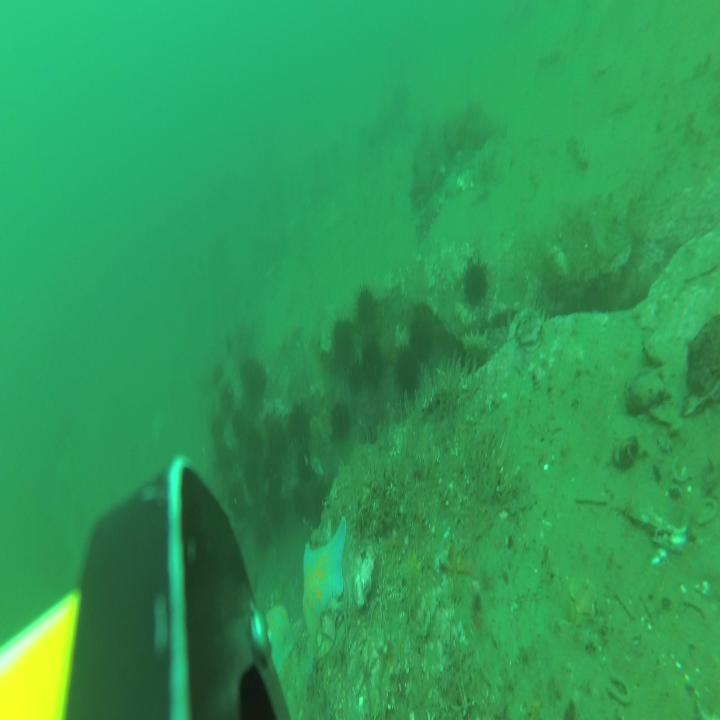echinus: (460, 259, 493, 314), (393, 346, 419, 396), (355, 285, 379, 336), (332, 315, 355, 368), (361, 339, 385, 389), (310, 481, 334, 526), (286, 403, 310, 446), (330, 401, 352, 447), (410, 316, 432, 361), (216, 441, 234, 483), (268, 426, 286, 464), (268, 491, 286, 525), (229, 484, 247, 518), (242, 461, 259, 497), (228, 406, 245, 442), (254, 519, 272, 552), (293, 485, 309, 522), (252, 367, 268, 403), (250, 429, 266, 463), (297, 448, 312, 482), (347, 361, 364, 391), (209, 415, 227, 443), (241, 360, 256, 392), (268, 469, 282, 498), (222, 382, 234, 414), (210, 364, 224, 390)
holothurian: (417, 187, 445, 244), (464, 330, 502, 368), (537, 44, 568, 70), (569, 134, 589, 171), (528, 166, 543, 192)
scallop: (569, 572, 599, 618), (458, 166, 476, 194), (267, 545, 278, 565)
starfish: (302, 516, 346, 640), (265, 605, 298, 676), (440, 542, 474, 602), (278, 321, 301, 361), (407, 546, 421, 576)
